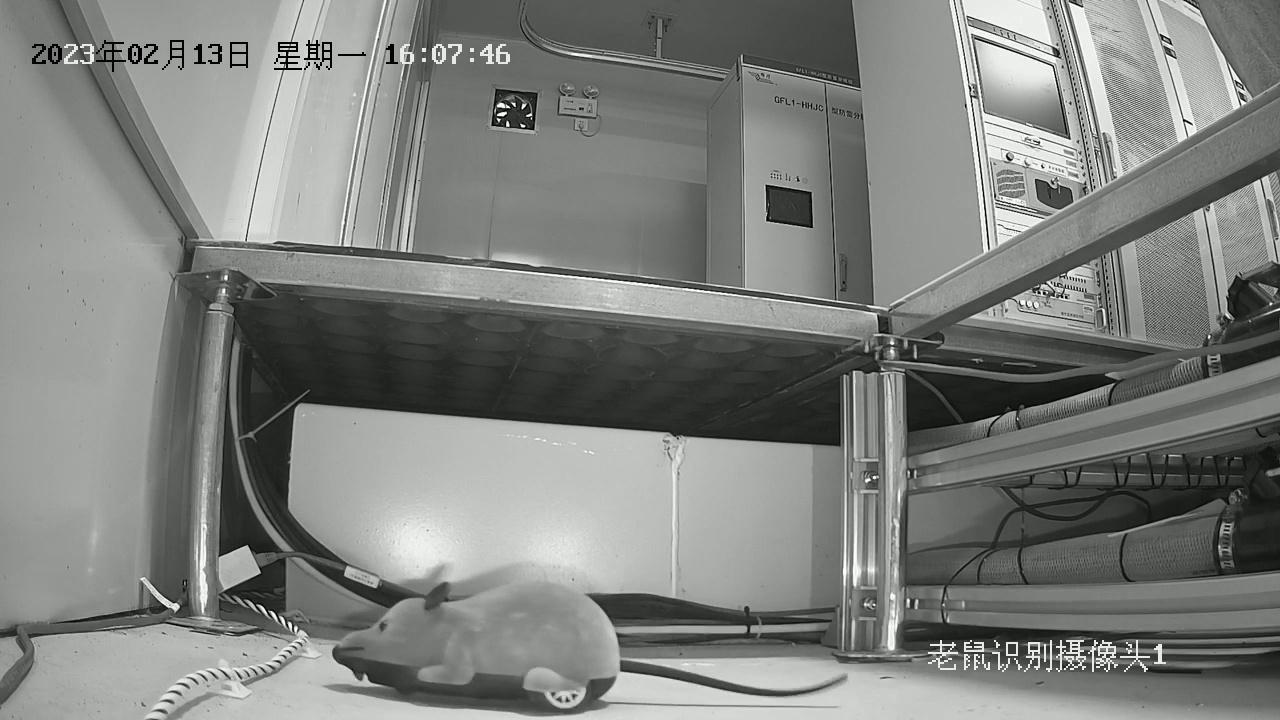rat: (332, 580, 848, 713)
